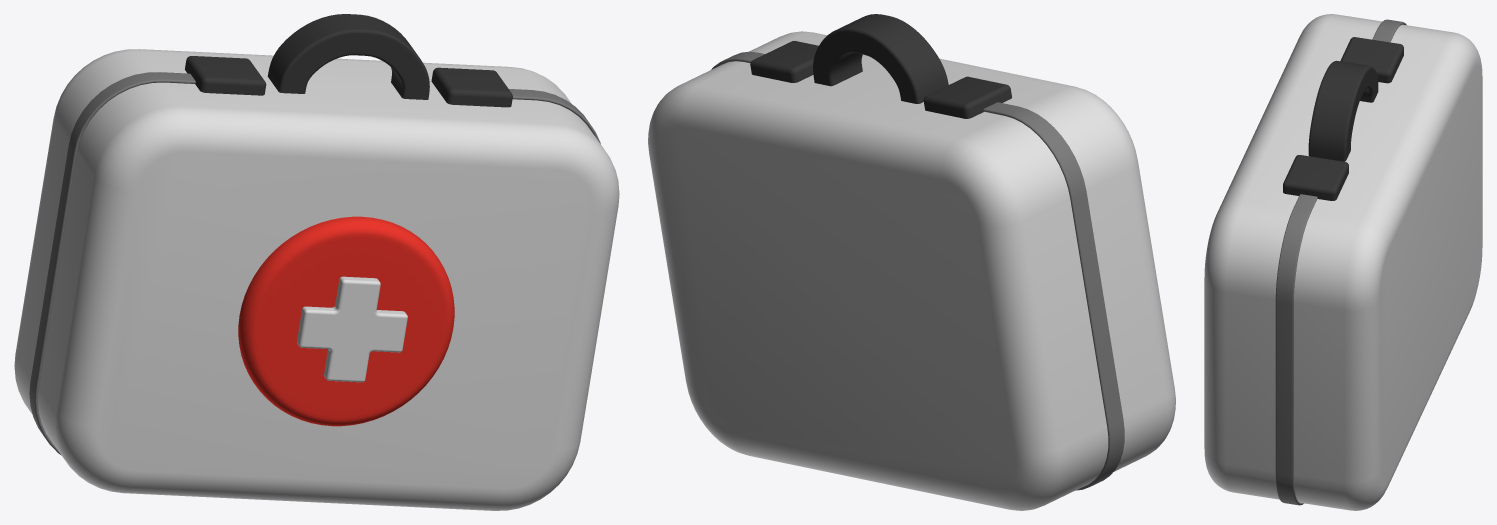
The model's file is first-aid-new.gltf.
3 renders of one model, left to right at view 1: azimuth 30°, elevation 25°; view 2: azimuth 150°, elevation 25°; view 3: azimuth 270°, elevation 25°, orthographic. The views are drawn at different scales.
Visible parts, largest first — view 1: Cube.105, Cylinder.051, Circle, Cube.106, Cube.107, Cube.108; view 2: Cube.105, Cube.107, Circle, Cube.108; view 3: Cube.105, Cube.107, Circle, Cube.108.
Boxes of the visible parts, x1,y1,x2,y2 form: Cube.105: (14, 49, 619, 510); Cylinder.051: (238, 216, 454, 426); Circle: (267, 14, 429, 99); Cube.106: (297, 276, 407, 382); Cube.107: (29, 72, 600, 455); Cube.108: (185, 56, 512, 107); Cube.105: (648, 31, 1175, 510); Cube.107: (711, 51, 1124, 490); Circle: (813, 14, 948, 103); Cube.108: (750, 41, 1011, 118); Cube.105: (1204, 14, 1482, 510); Cube.107: (1275, 19, 1406, 505); Circle: (1308, 60, 1378, 161); Cube.108: (1283, 37, 1403, 200).
Bounding box in the file's own units: 3.7 × 3.14 × 2.05.
